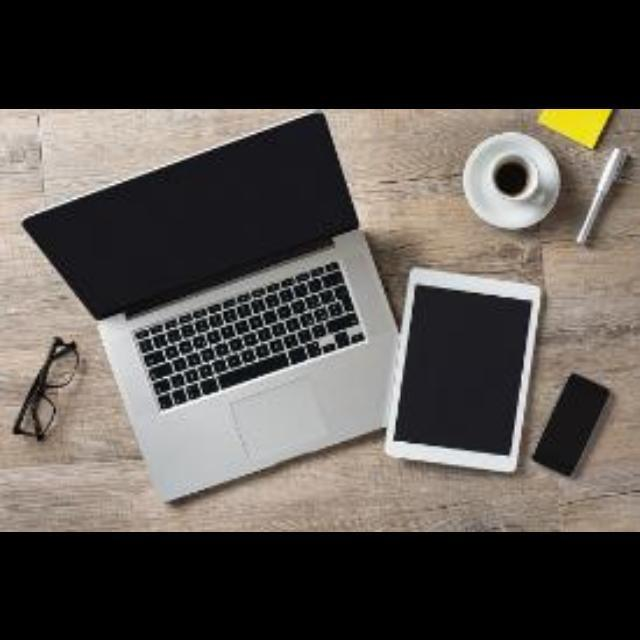phone: (525, 360, 615, 489)
